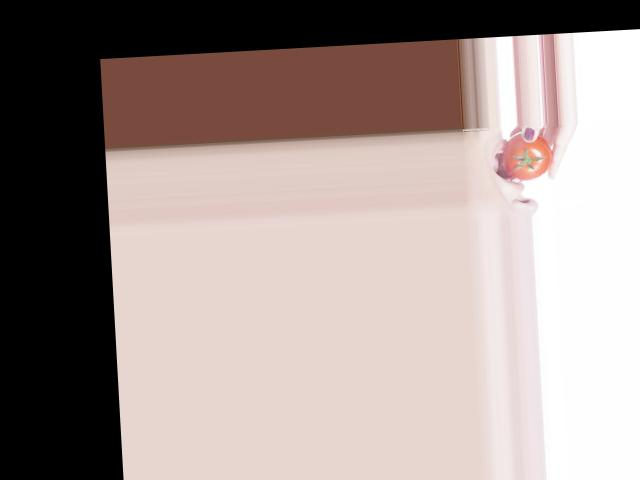tomato: (502, 129, 554, 181)
